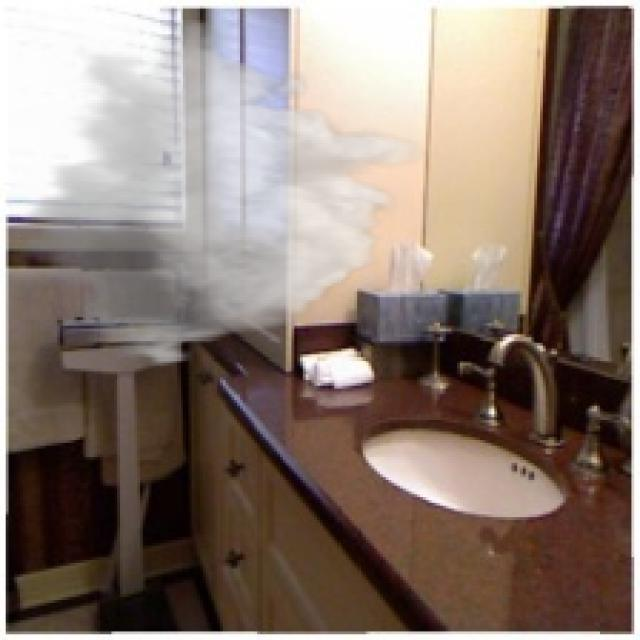Smoke: (8, 17, 426, 369)
